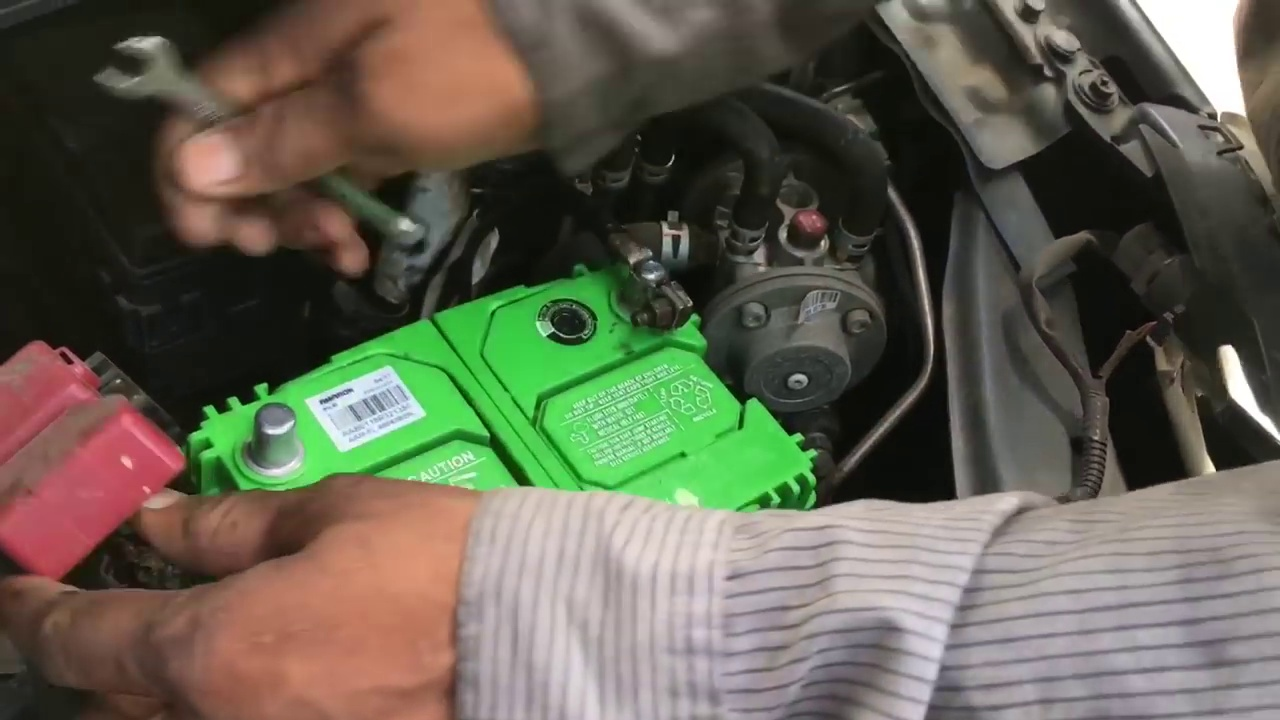battery: (184, 263, 811, 607)
neg_connected: (565, 153, 692, 343)
pos_disconnected: (39, 333, 334, 524)
